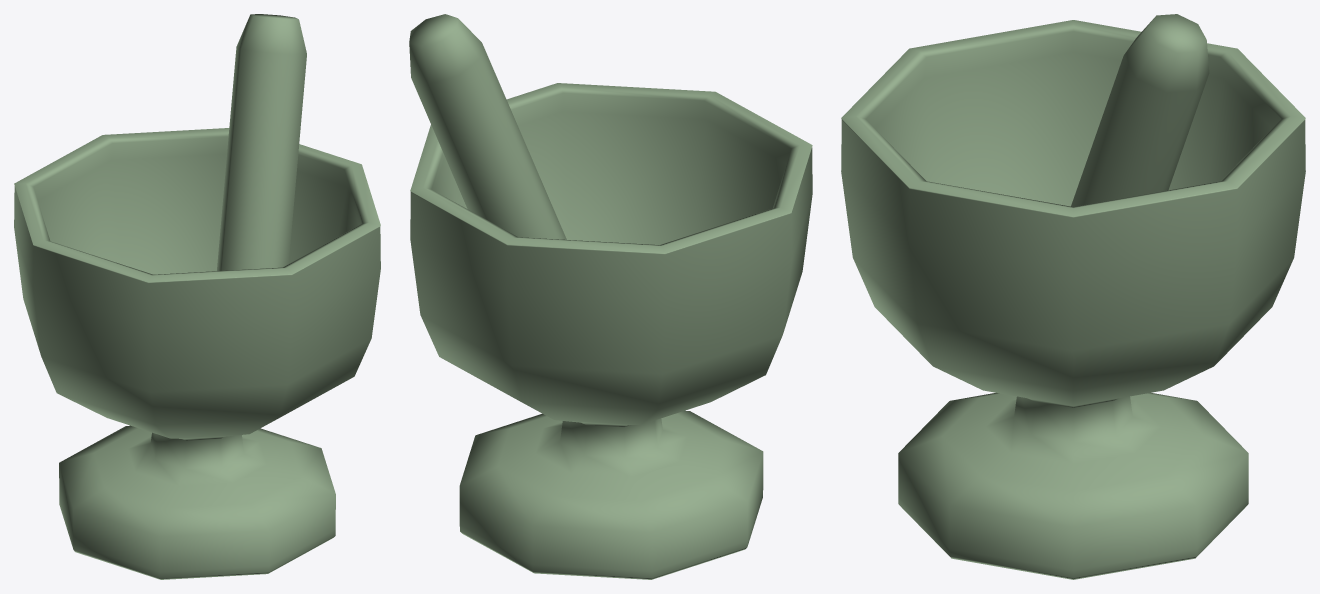
File: Motar.fbx
3 renders of one model, left to right at view 1: azimuth 30°, elevation 25°; view 2: azimuth 150°, elevation 25°; view 3: azimuth 270°, elevation 25°, orthographic. The views are drawn at different scales.
Parts seen in each view (by area): view 1: Motar_01, Pestle_01; view 2: Motar_01, Pestle_01; view 3: Motar_01, Pestle_01.
Part boxes in pixels (bbox=[...]): Motar_01: bbox=[14, 128, 380, 579]; Pestle_01: bbox=[217, 14, 306, 271]; Motar_01: bbox=[410, 83, 812, 579]; Pestle_01: bbox=[409, 14, 566, 239]; Motar_01: bbox=[841, 20, 1305, 579]; Pestle_01: bbox=[1071, 14, 1209, 206].
Bounding box in the file's own units: 1.08 × 1.43 × 1.08.
